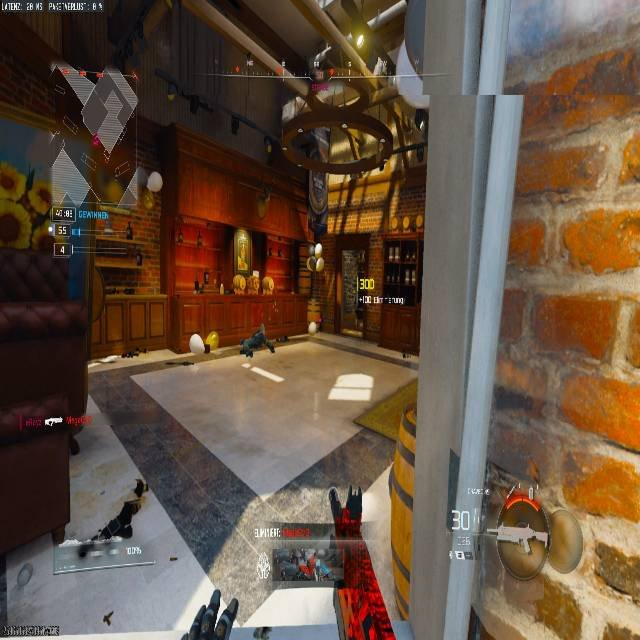player: (238, 329, 279, 357)
